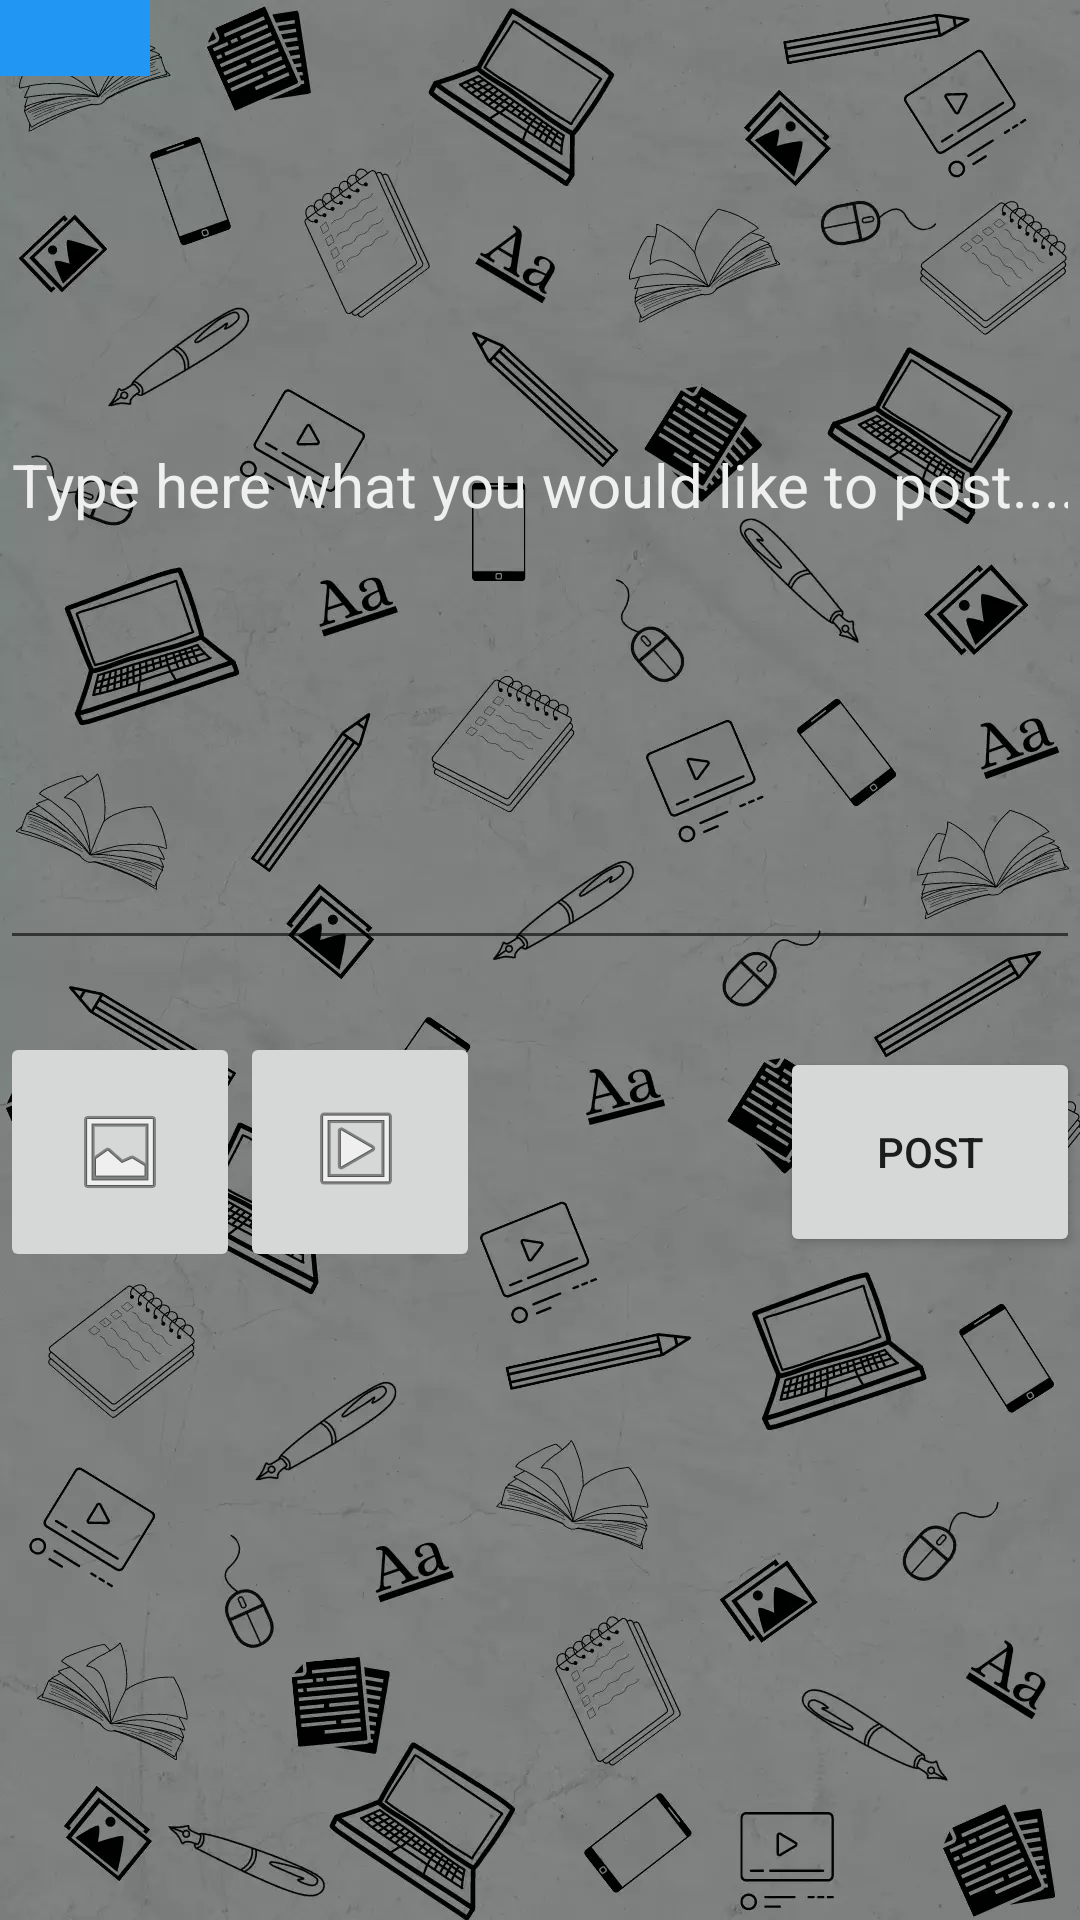

Screen size 1080 × 1920. Icon name, then its center in pixels as point (x, y):
gallery: point (122, 1146)
slideshow: point (355, 1152)
